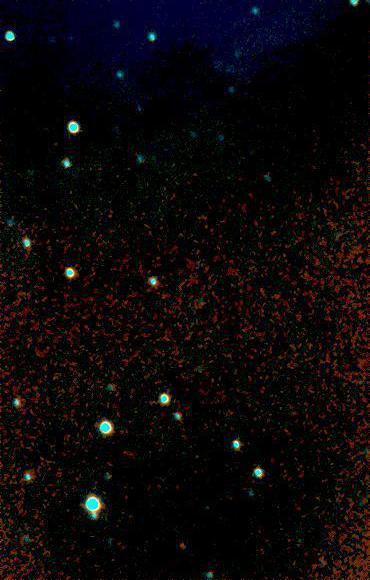star: (168, 530, 198, 560)
